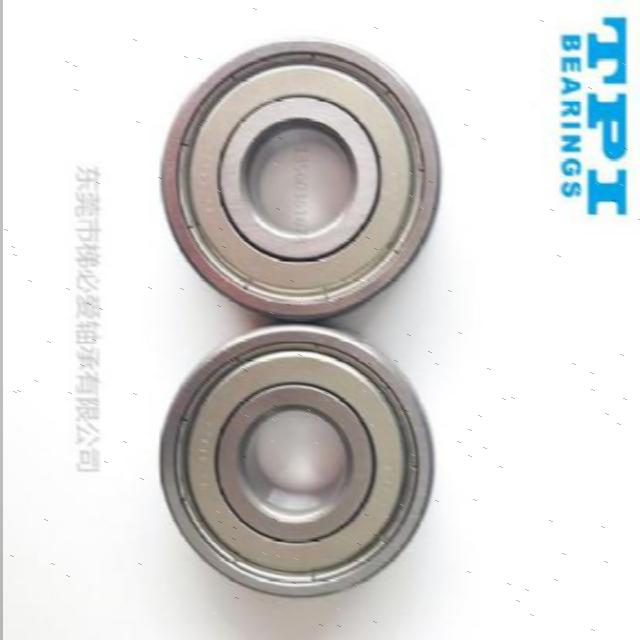Bearing: (159, 34, 443, 320), (152, 322, 434, 602)
